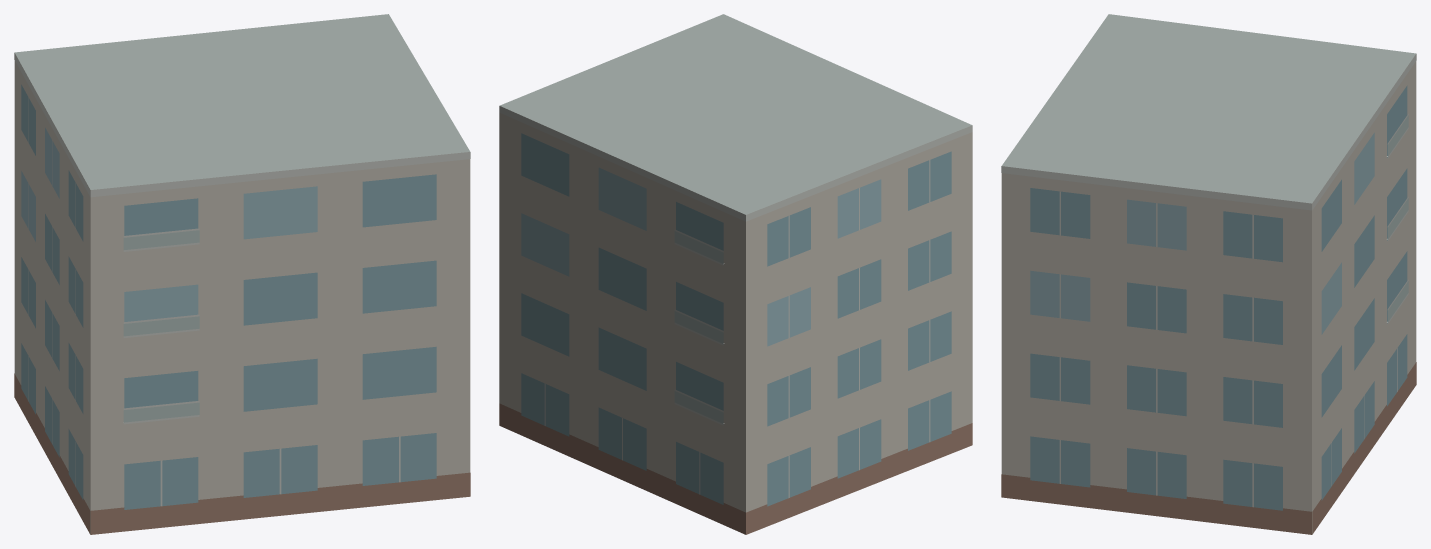
Rendered from survey-upis-32981933.glb.
3 renders of one model, left to right at view 1: azimuth 30°, elevation 25°; view 2: azimuth 150°, elevation 25°; view 3: azimuth 270°, elevation 25°, orthographic. The views are drawn at different scales.
Parts seen in each view (by area): view 1: survey-upis-32981933.tmp; view 2: survey-upis-32981933.tmp; view 3: survey-upis-32981933.tmp.
Boxes of the visible parts, x1,y1,x2,y2 form: survey-upis-32981933.tmp: [14, 14, 470, 534]; survey-upis-32981933.tmp: [499, 14, 972, 534]; survey-upis-32981933.tmp: [1001, 14, 1416, 534].
Size of the model in its own units: 14.24 by 11.6 by 13.18.
